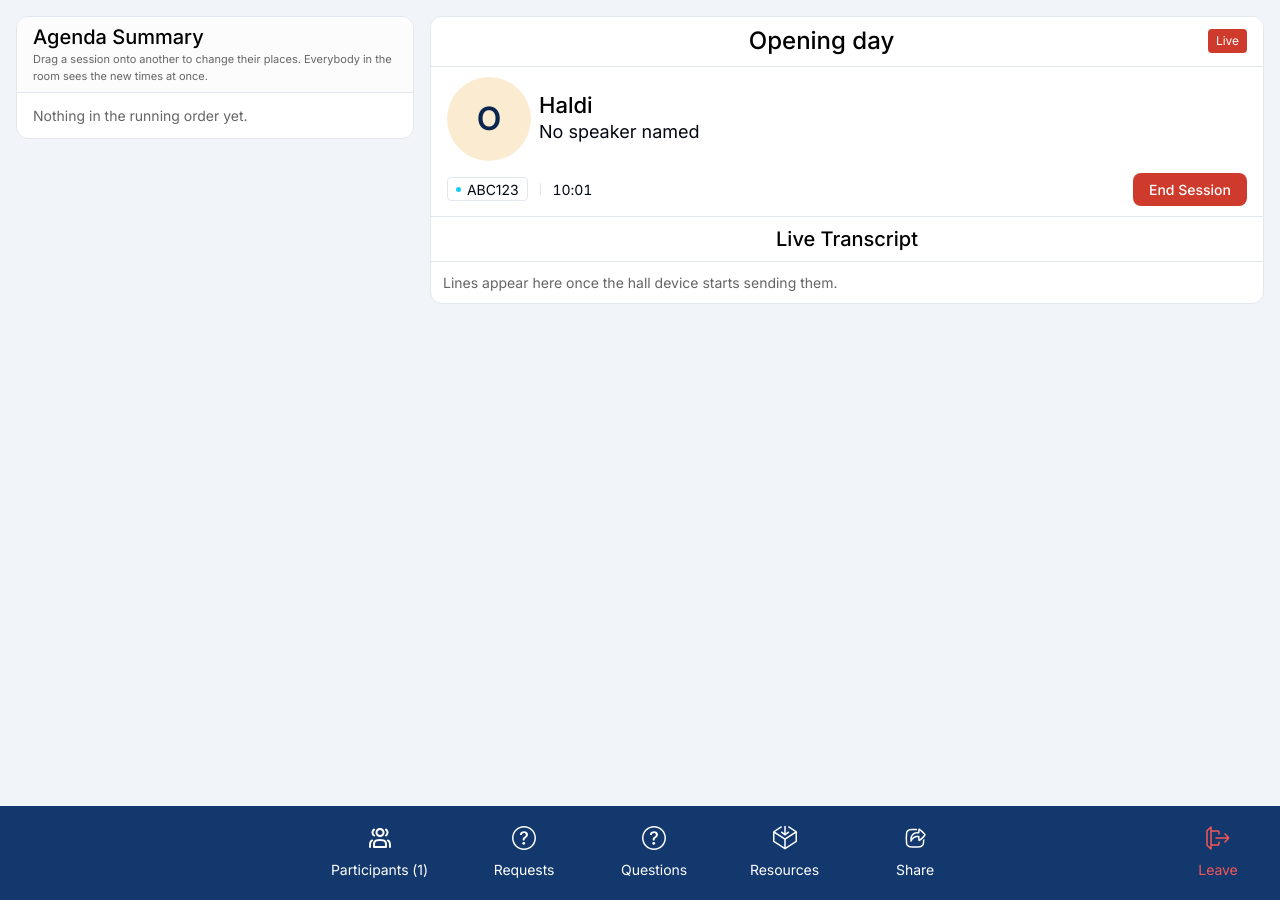
Test: the room as the design lays it out › keeps participant role controls out of the live room
Click the button "Participants (1)". click: (380, 853)
box: [319, 818, 440, 888]
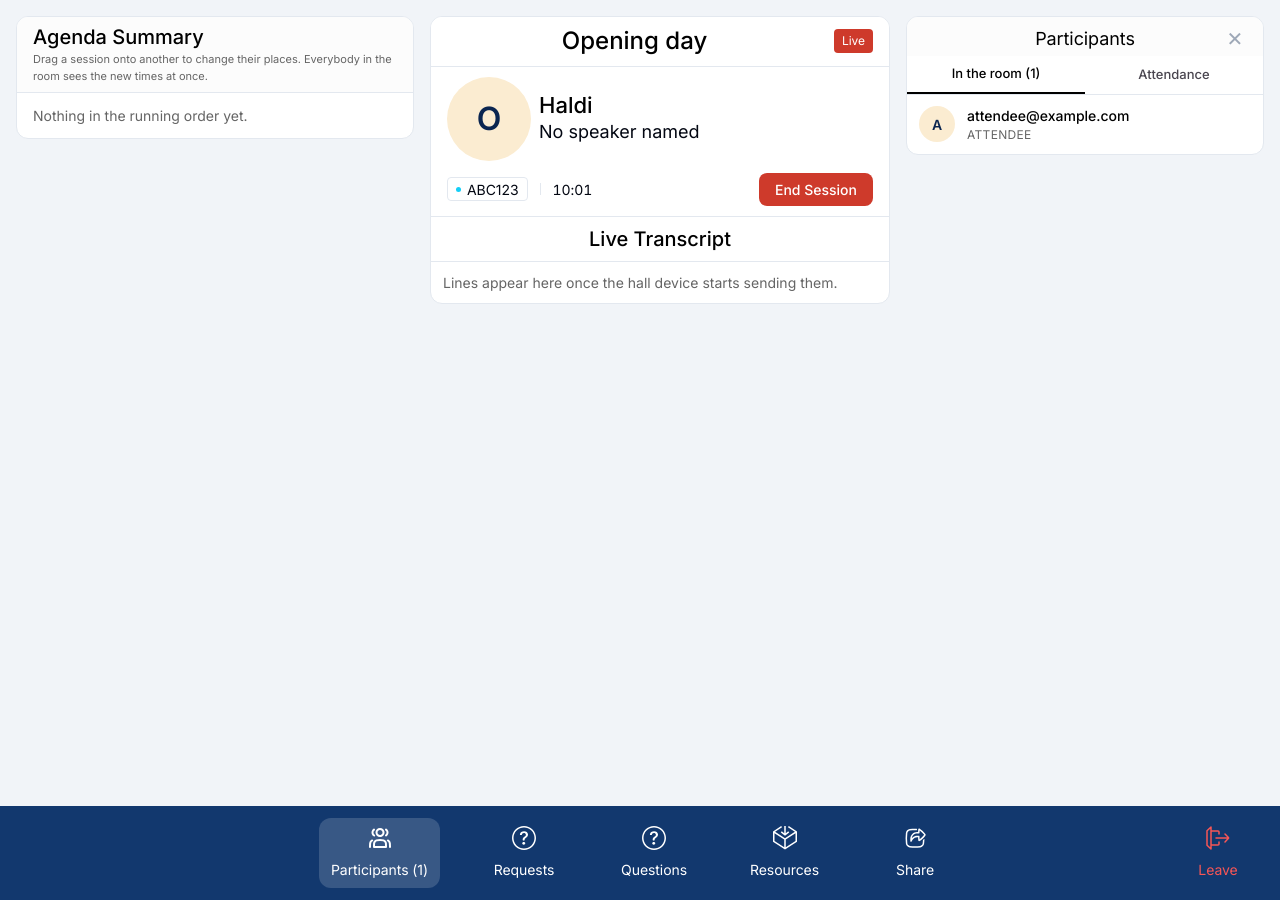
Expected: the text "attendee@example.com" is shown, [967, 106, 1130, 124]
